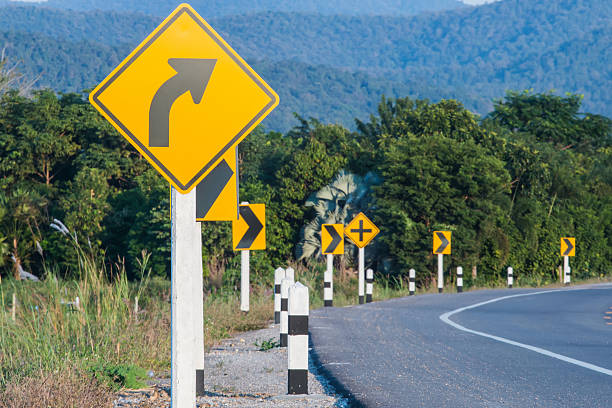right turn: (88, 4, 278, 193), (233, 204, 265, 249), (321, 224, 344, 255), (431, 230, 450, 254), (560, 237, 575, 256)
